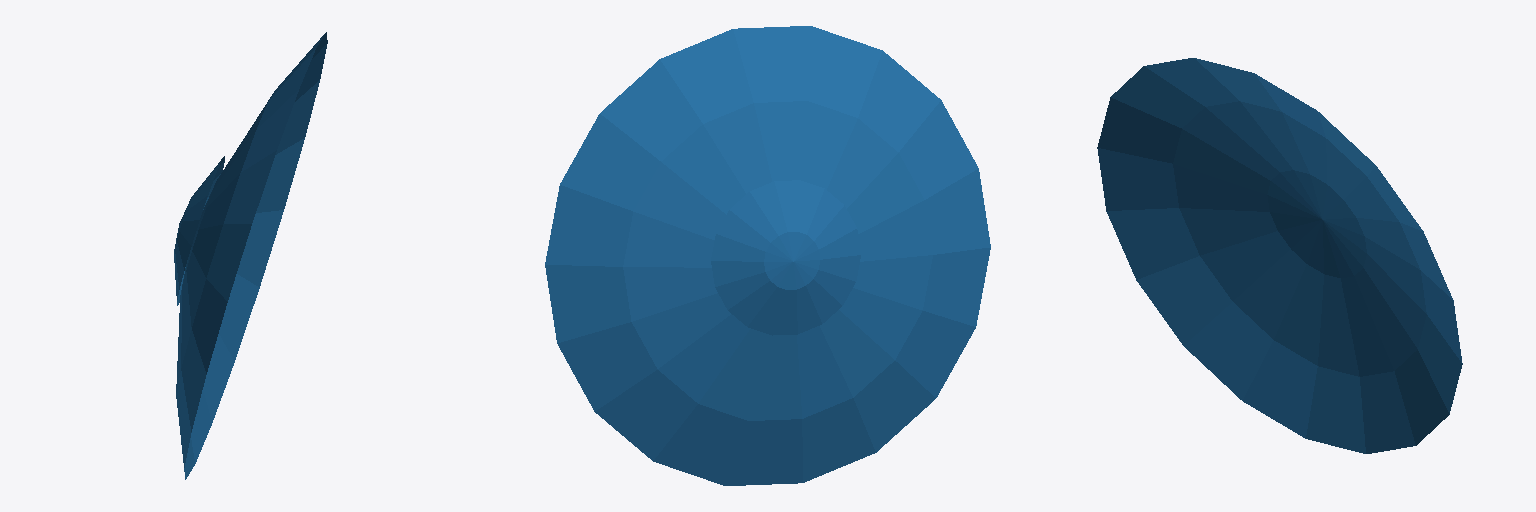
The picture shows the model from 3 angles: view 1: azimuth 30°, elevation 25°; view 2: azimuth 150°, elevation 25°; view 3: azimuth 270°, elevation 25°; orthographic projection.
Visible parts, largest first — view 1: pikapika00a_0, pikapika00b_0; view 2: pikapika00a_0, pikapika00b_0; view 3: pikapika00a_0.
Part boxes in pixels (x1,y1,x2,y2): pikapika00a_0: (176,32,327,479); pikapika00b_0: (174,156,224,305); pikapika00a_0: (545,26,990,485); pikapika00b_0: (711,180,860,335); pikapika00a_0: (1097,58,1462,453).
Size of the model in its own units: 23.42 by 33.85 by 27.18.